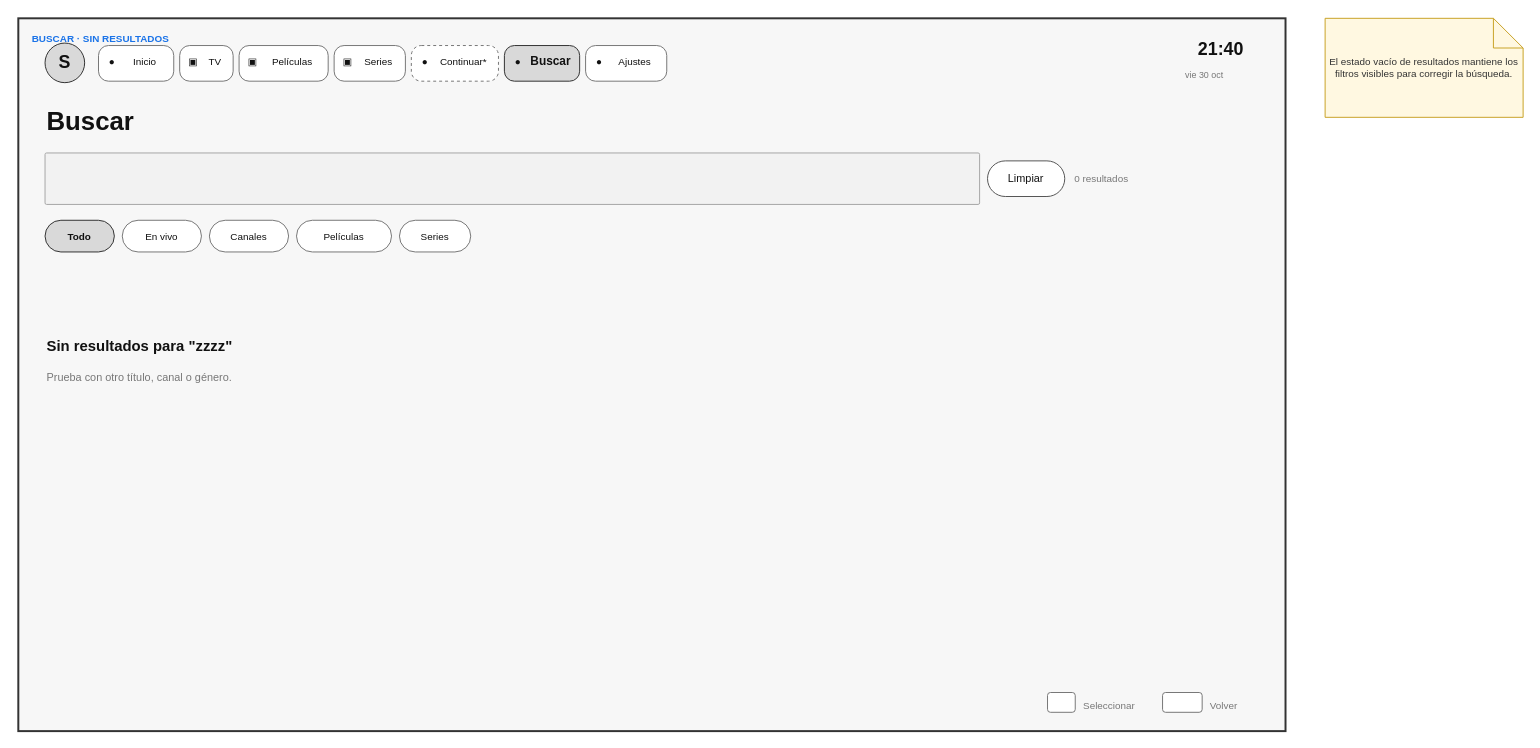
Some shapes in this 1540 by 748 pixel diagram are drawn without their labels. Here are the shapes that lost their labels. From the top down, the centre of each, then its label:
At (512,178): "zzzz".
At (1061,702): "OK".
At (1182,702): "Back".
